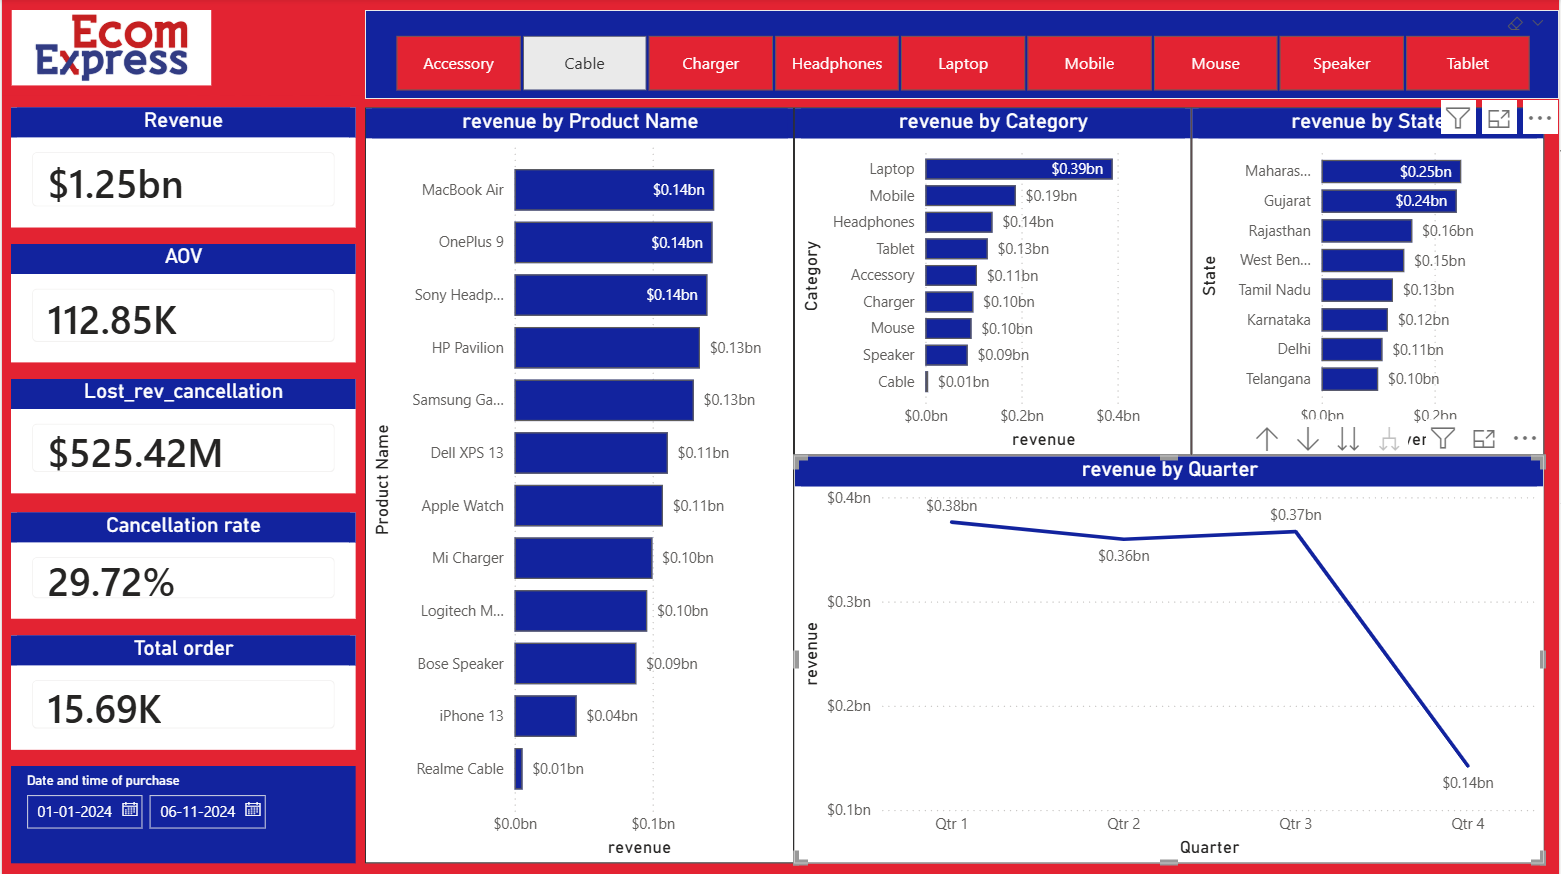

The dashboard page shown, as its layout file describes it:
{"tool":"powerbi","page":{"name":"Page 1","canvas":[1280,720],"ordinal":0},"visuals":[{"type":"shape","box":[0,0,1280,90],"z":0},{"type":"shape","box":[0,80.7,298,639.5],"z":1000},{"type":"image","box":[0,9.3,180.1,62.1],"z":2000},{"type":"barChart","fields":{"Y":["table.revenue"],"Category":["products.Product Name"]},"box":[298.4,90,352.7,621.5],"z":3000},{"type":"barChart","fields":{"Y":["table.revenue"],"Category":["products.Category"]},"box":[651.1,90,326.8,286.1],"z":4000},{"type":"lineChart","fields":{"Y":["table.revenue"],"Category":["orders.Date and time of purchase.Variation.Date Hierarchy.Year","orders.Date and time of purchase.Variation.Date Hierarchy.Quarter","orders.Date and time of purchase.Variation.Date Hierarchy.Month","orders.Date and time of purchase.Variation.Date Hierarchy.Day"]},"box":[651.1,376.1,616.6,335.4],"z":5000},{"type":"barChart","fields":{"Category":["customers.State"],"Y":["table.revenue"]},"box":[977.9,90,289.8,286.1],"z":6000},{"type":"slicer","fields":{"Values":["products.Category"]},"box":[298.4,9.9,981.6,72.8],"z":7000},{"type":"cardVisual","title":"Revenue","fields":{"Data":["table.revenue"]},"box":[7.4,90,283.6,98.7],"z":8000},{"type":"cardVisual","title":"AOV","fields":{"Data":["table.AOV"]},"box":[7.4,202.2,283.6,97.4],"z":9000},{"type":"cardVisual","title":"Lost_rev_cancellation","fields":{"Data":["table.lost_rev_cancellation"]},"box":[7.4,313.2,283.6,93.7],"z":10000},{"type":"cardVisual","title":"Cancellation rate","fields":{"Data":["table.cansalation rate"]},"box":[7.4,423,283.6,87.6],"z":11000},{"type":"cardVisual","title":"Total order","fields":{"Data":["CountNonNull(orders.OrderID)"]},"box":[7.4,524.1,283.6,93.7],"z":12000},{"type":"slicer","fields":{"Values":["orders.Date and time of purchase"]},"box":[7.4,631.4,283.6,80.2],"z":12001}]}

Visuals, with their boxes in screenshot pixels (x1, y1, x2, y2), scaled from the page's 1280x720 canvas onto the 1561x874 screenshot:
shape: x1=0 y1=0 x2=1560 y2=109
shape: x1=0 y1=98 x2=363 y2=873
image: x1=0 y1=11 x2=220 y2=87
barChart - table.revenue x products.Product Name: x1=364 y1=109 x2=794 y2=864
barChart - table.revenue x products.Category: x1=794 y1=109 x2=1193 y2=457
lineChart - table.revenue x orders.Date and time of purchase.Variation.Date Hierarchy.Year: x1=794 y1=457 x2=1546 y2=864
barChart - customers.State x table.revenue: x1=1193 y1=109 x2=1546 y2=457
slicer - products.Category: x1=364 y1=12 x2=1560 y2=100
"Revenue" cardVisual: x1=9 y1=109 x2=355 y2=229
"AOV" cardVisual: x1=9 y1=245 x2=355 y2=364
"Lost_rev_cancellation" cardVisual: x1=9 y1=380 x2=355 y2=494
"Cancellation rate" cardVisual: x1=9 y1=513 x2=355 y2=620
"Total order" cardVisual: x1=9 y1=636 x2=355 y2=750
slicer - orders.Date and time of purchase: x1=9 y1=766 x2=355 y2=864
